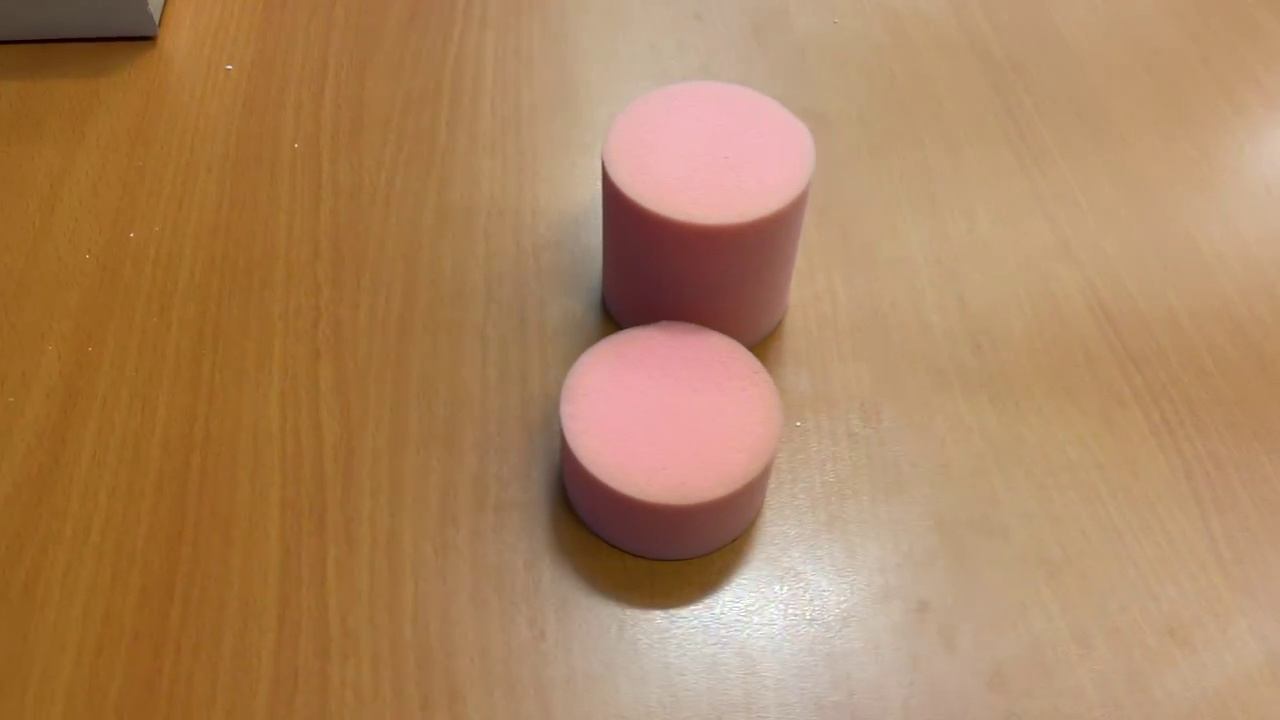Clyinder_short: (546, 318, 793, 567)
Cylinder: (594, 74, 821, 357)
